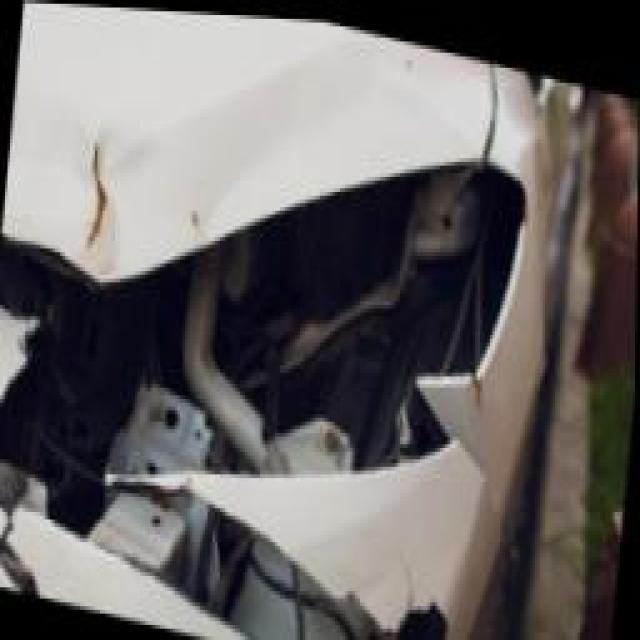Bonnet: (10, 83, 159, 245)
Bumper: (0, 339, 511, 640)
Fender: (458, 271, 527, 448)
Light: (95, 124, 511, 436)
